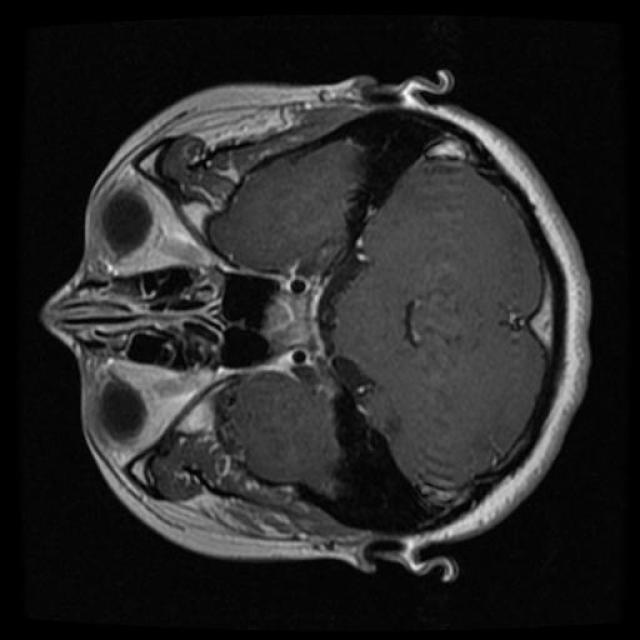Pituitary: (261, 273, 331, 383)
